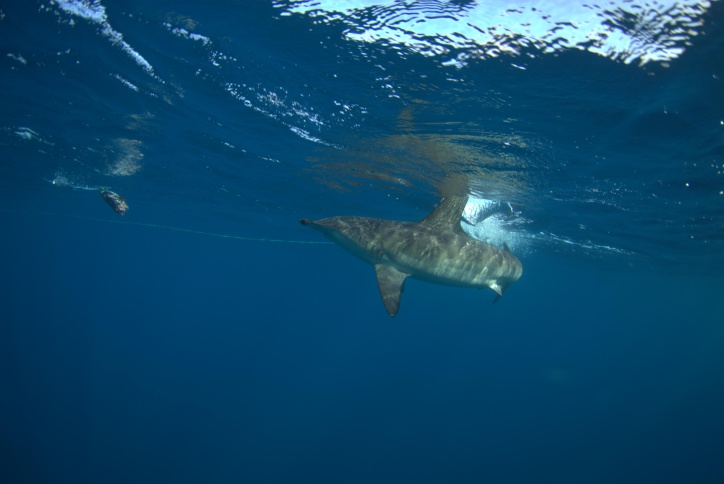Hammer: (293, 161, 547, 334)
